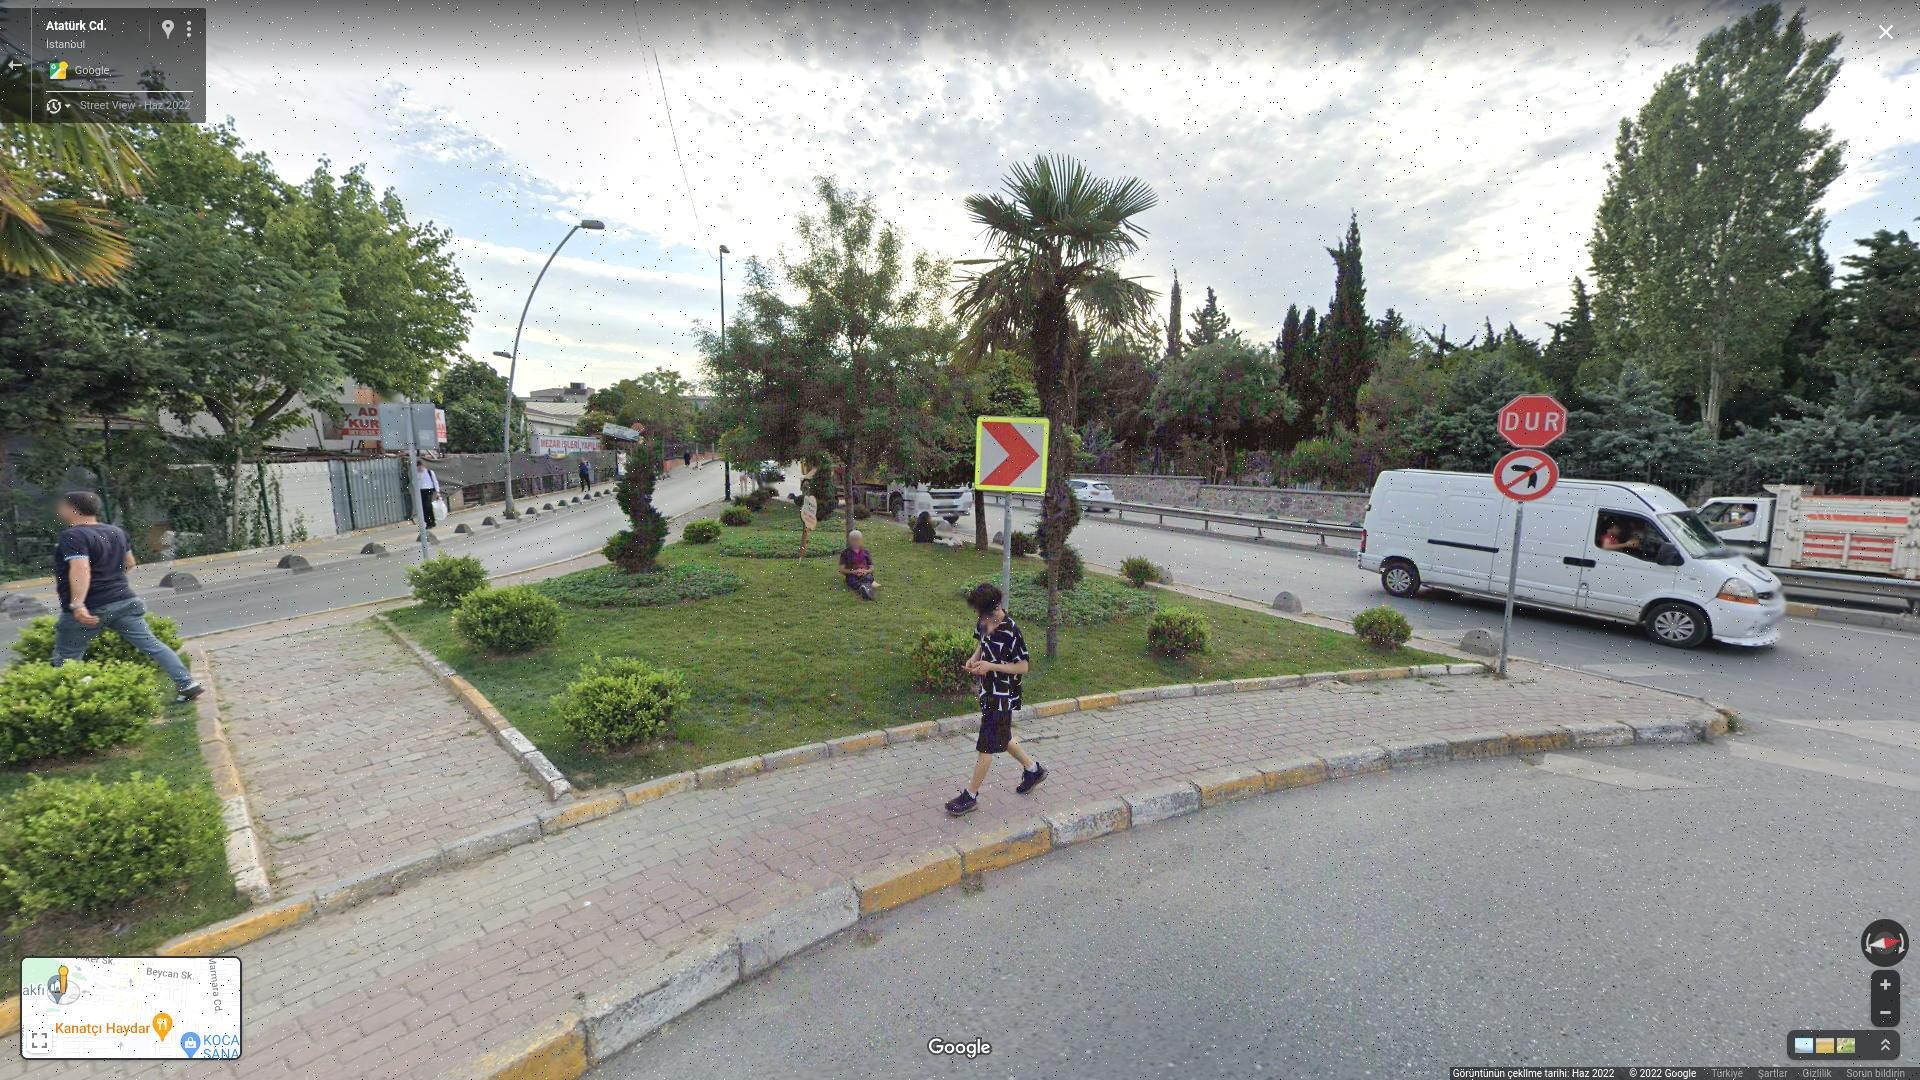leftturnsareforbidden: (1494, 450, 1559, 504)
stop: (1498, 393, 1567, 448)
